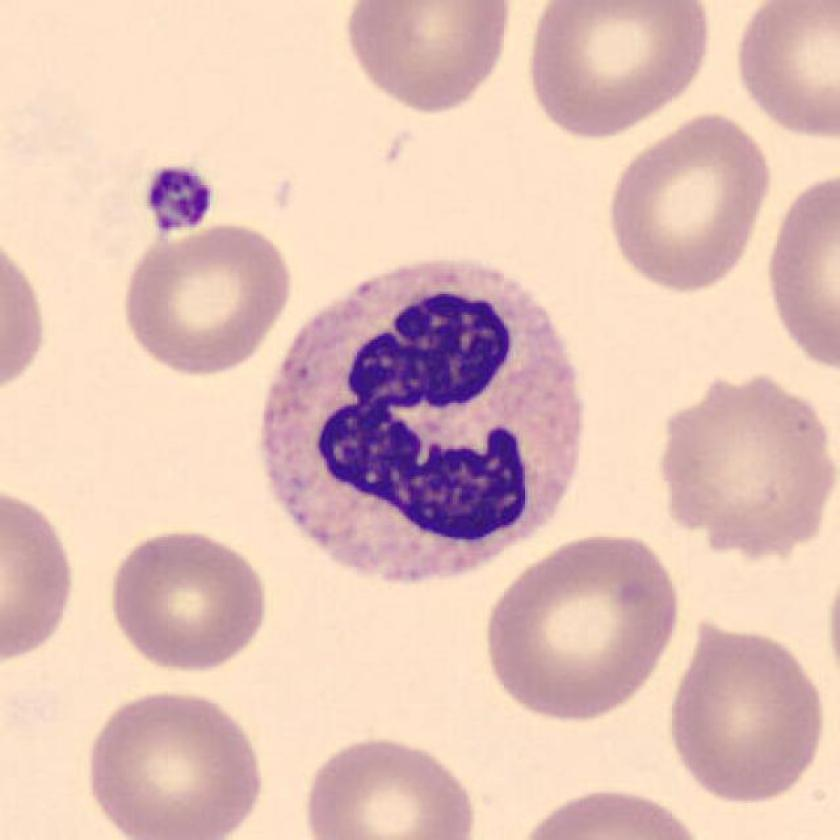neutrophil: (264, 260, 584, 584)
